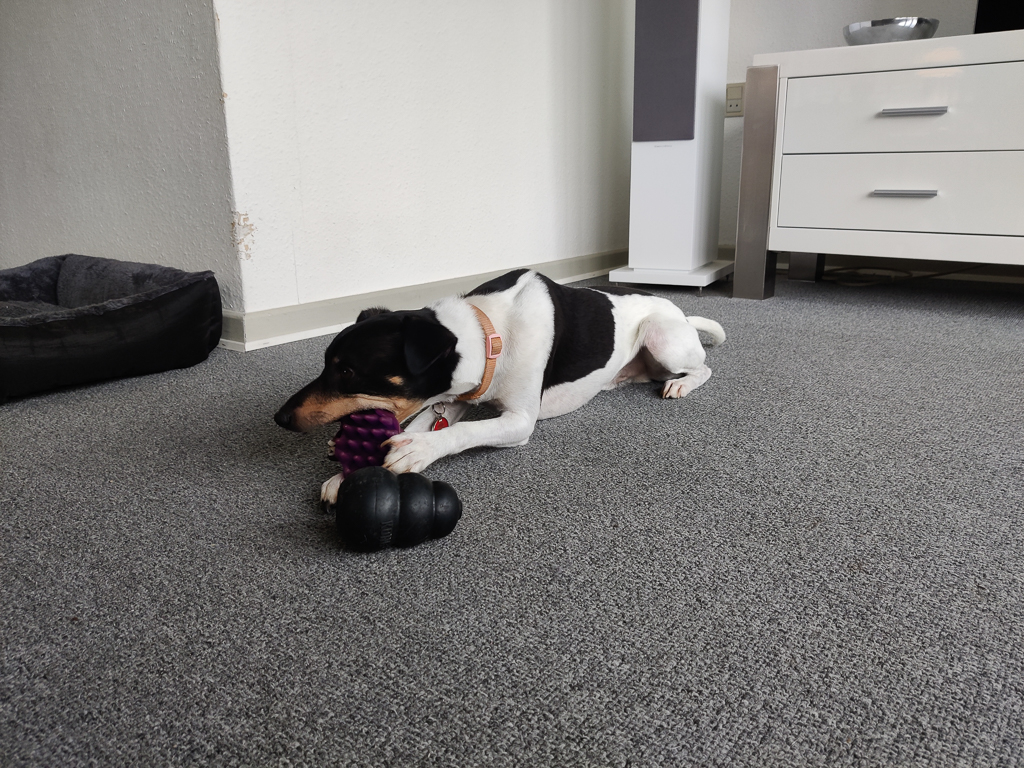Dog: (256, 243, 771, 544)
